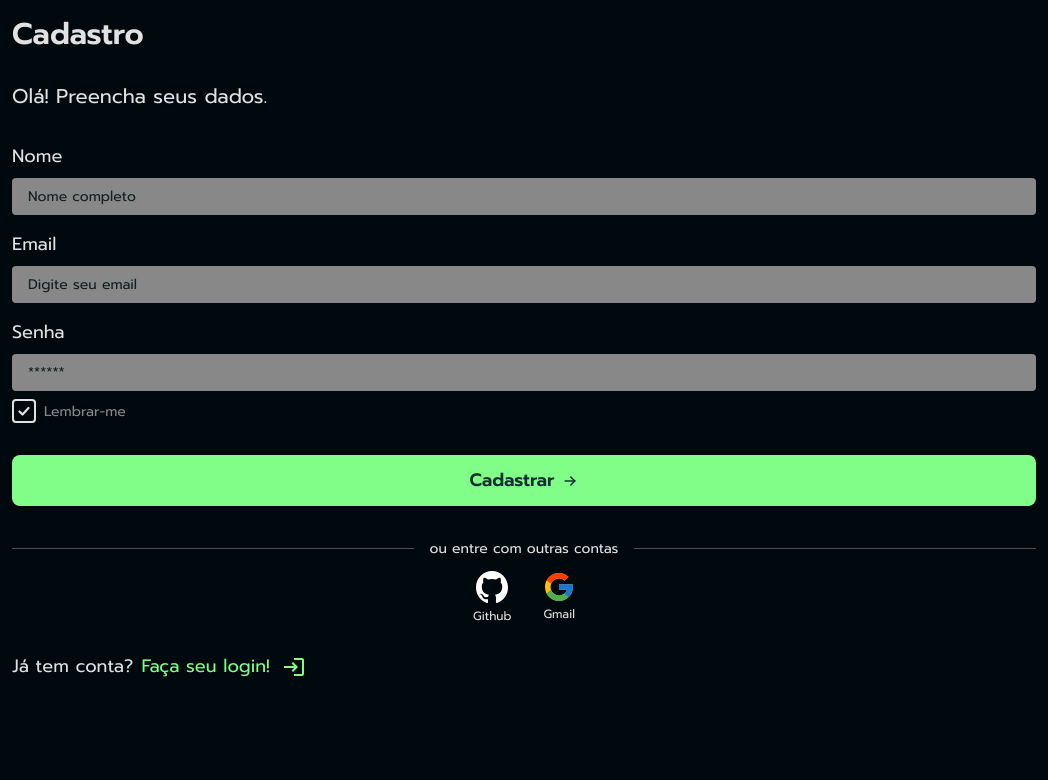
Test: RegisterForm › shows validation errors when submitted empty
The width and height of the screenshot is (1048, 780).
Click the button "Cadastrar": (524, 480) [12,455,1036,506]
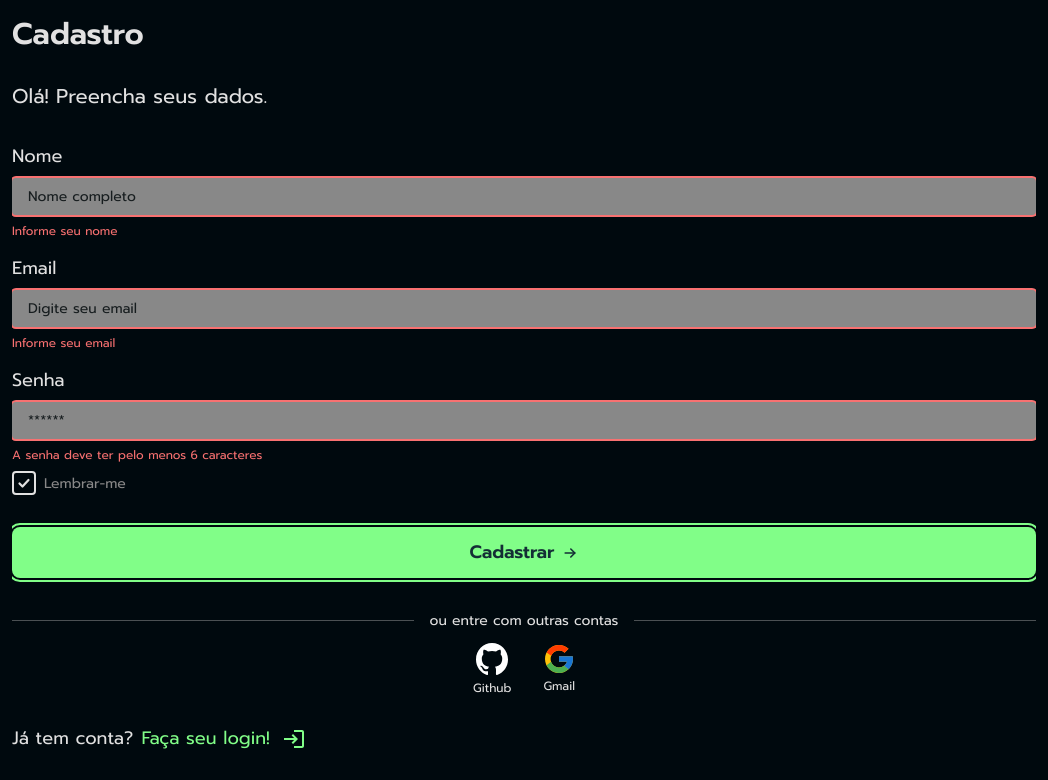
Expected: the text "Informe seu nome" is shown, [12,222,118,240]
Expected: the text "Informe seu email" is shown, [12,334,115,352]
Expected: the text "A senha deve ter pelo menos 6 caracteres" is shown, [12,446,262,464]
